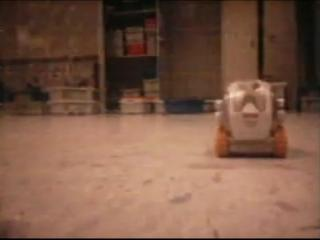cozmo: (213, 78, 289, 159)
